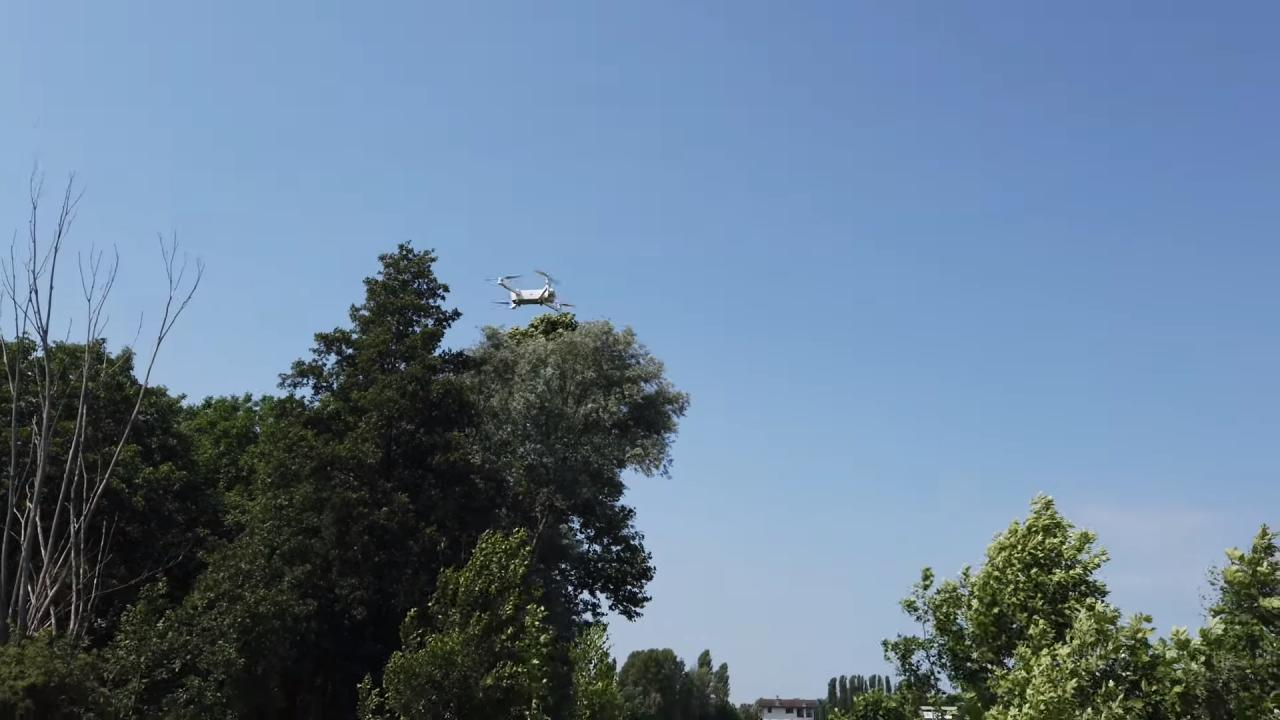Drone: (477, 264, 578, 322)
